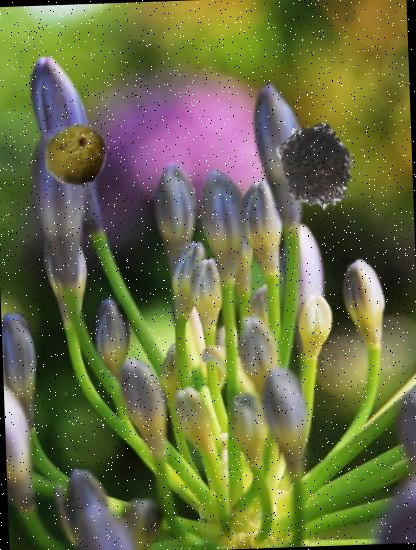Guava: (43, 122, 110, 190)
Rambutan: (268, 121, 363, 216)
